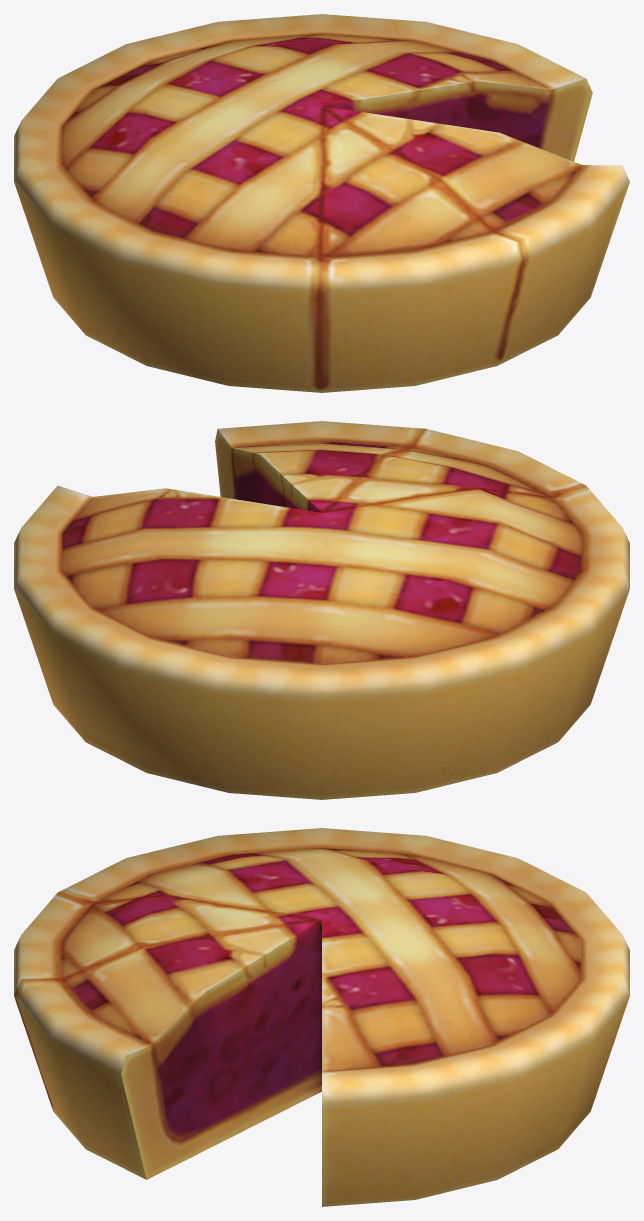
Rendered from SE_Pie_02.fbx.
The picture shows the model from 3 angles, top to bottom: view 1: azimuth 30°, elevation 25°; view 2: azimuth 150°, elevation 25°; view 3: azimuth 270°, elevation 25°; orthographic projection.
Parts seen in each view (by area): view 1: SE_Pie_02; view 2: SE_Pie_02; view 3: SE_Pie_02.
Part boxes in pixels (x1=…): SE_Pie_02: x1=14, y1=14, x2=629, y2=392; SE_Pie_02: x1=14, y1=421, x2=629, y2=799; SE_Pie_02: x1=14, y1=828, x2=629, y2=1206.
Bounding box in the file's own units: 2.57 × 0.7776 × 2.53.
